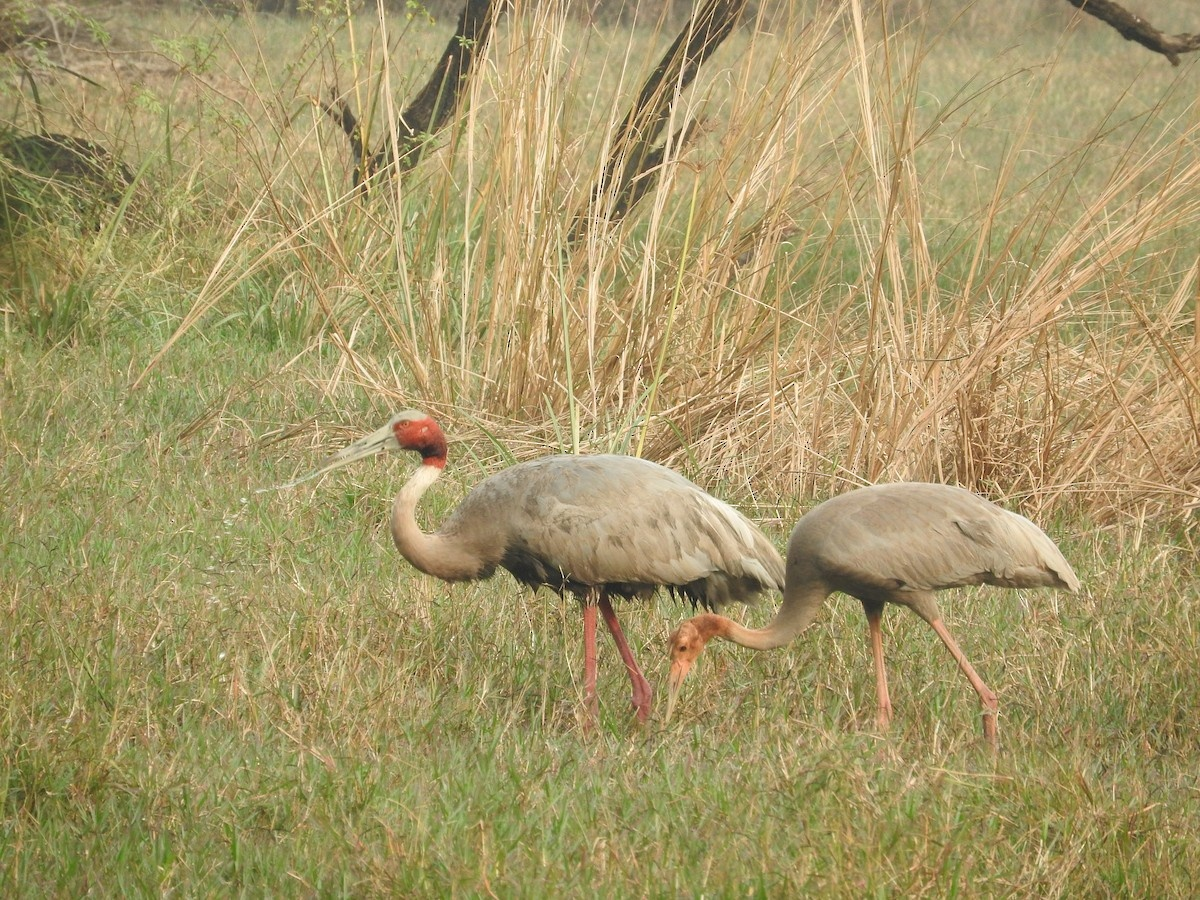crane: (324, 404, 787, 725), (655, 473, 1086, 724)
